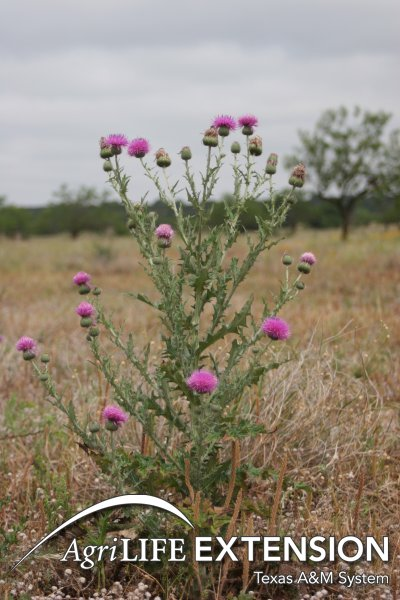thistle: (184, 370, 218, 398), (102, 403, 129, 436), (12, 336, 38, 369), (102, 130, 130, 160), (264, 317, 294, 343), (236, 113, 262, 142), (68, 272, 100, 295), (150, 222, 175, 251), (74, 301, 98, 331), (126, 134, 150, 161), (208, 115, 236, 138), (293, 253, 319, 277)
